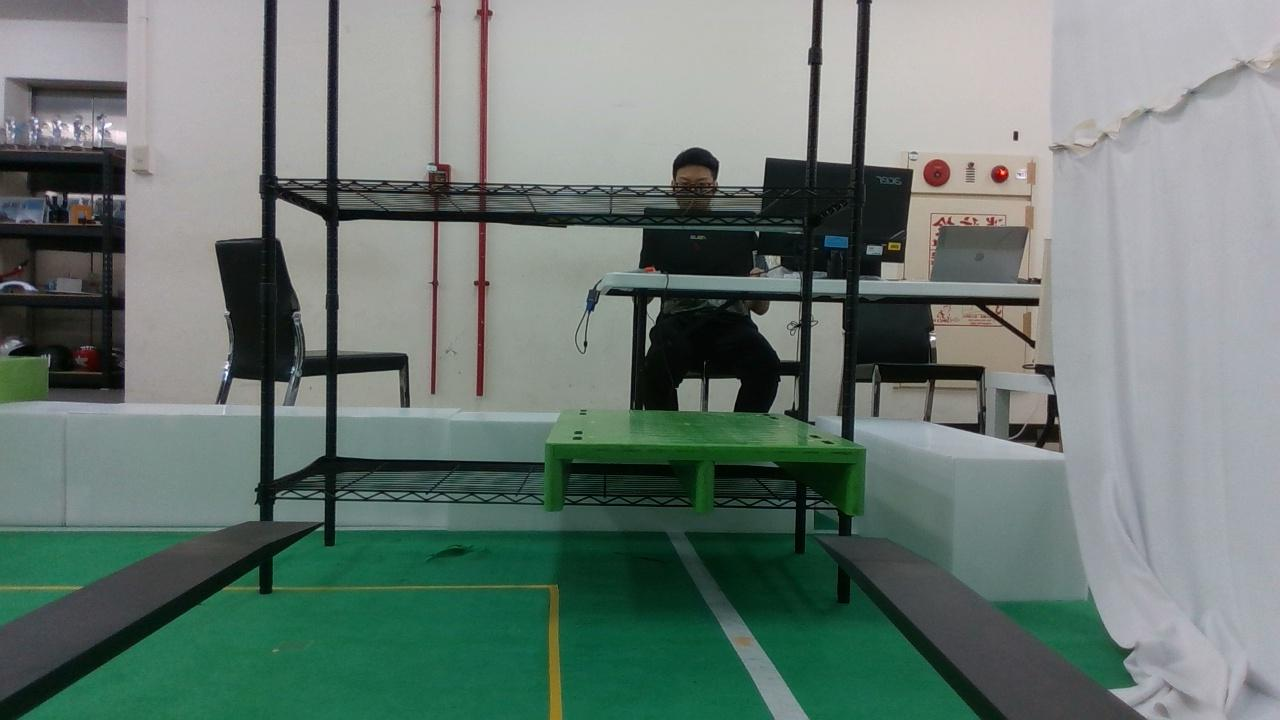Pallet: (543, 441, 868, 513)
